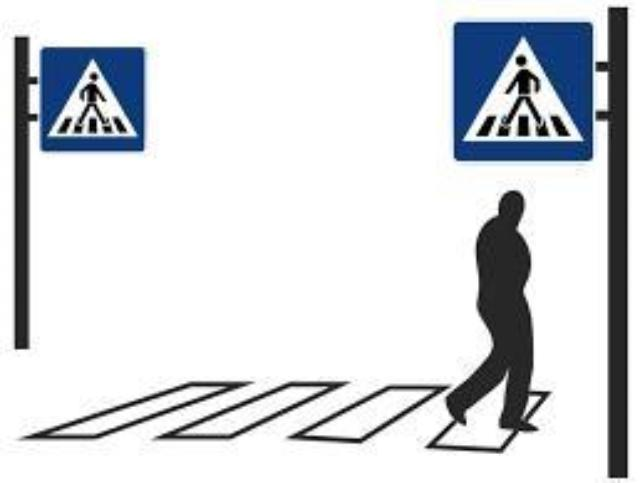crosswalk-sign: (453, 19, 594, 162), (39, 46, 148, 152)
